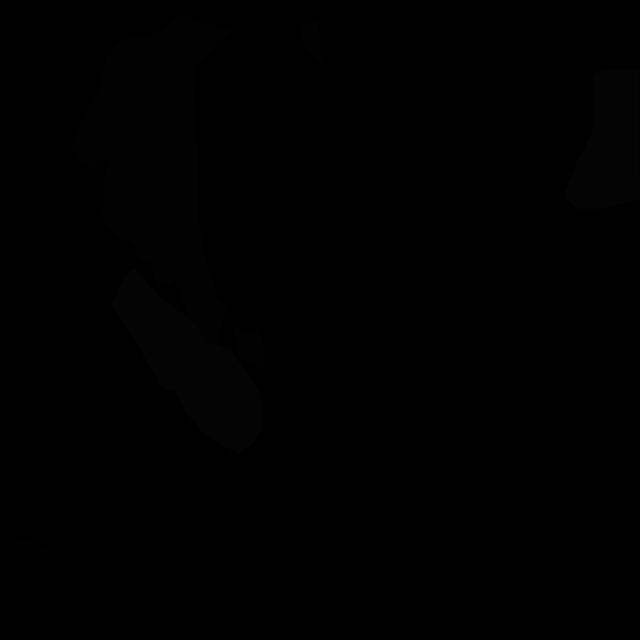cardboard: (70, 13, 239, 285), (174, 218, 227, 345), (234, 323, 266, 371), (298, 20, 323, 72)
rigid_plastic: (0, 537, 81, 596)
soft_plastic: (111, 269, 264, 455), (563, 68, 640, 209)
